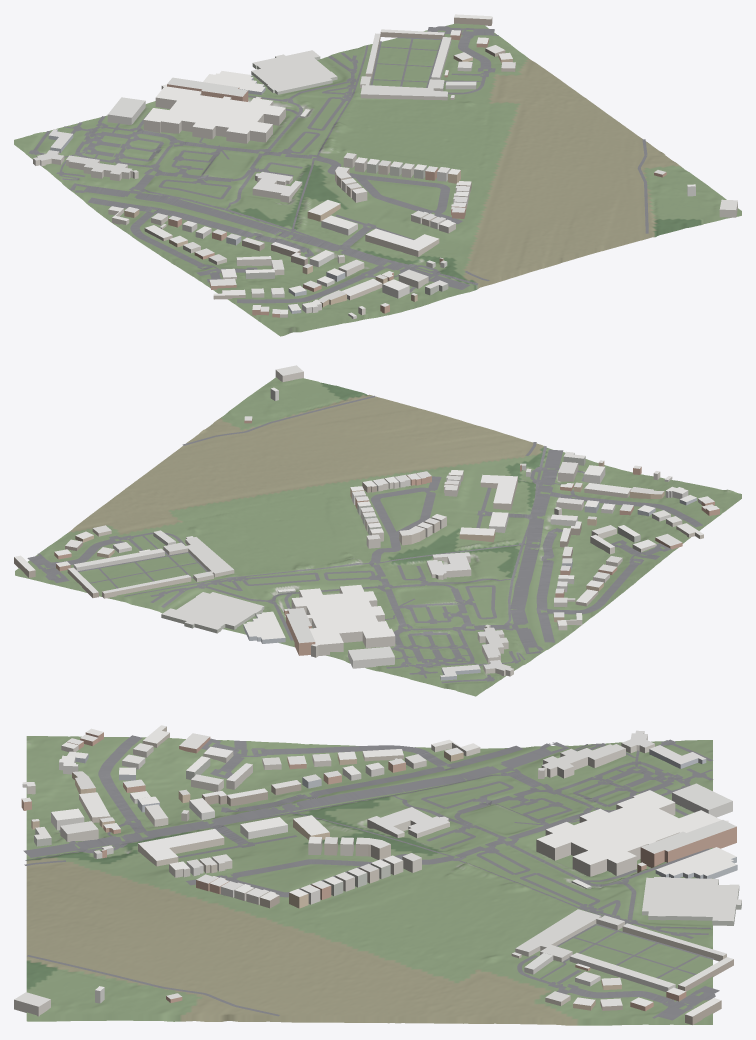
3 renders of one model, top to bottom at view 1: azimuth 30°, elevation 25°; view 2: azimuth 150°, elevation 25°; view 3: azimuth 270°, elevation 25°, orthographic. The views are drawn at different scales.
Parts seen in each view (by area): view 1: prim0, prim1, prim2; view 2: prim0, prim1, prim2; view 3: prim0, prim1, prim2.
Part boxes in pixels (x1,y1,x2,y2): prim0: (14, 23, 741, 336); prim1: (33, 14, 737, 319); prim2: (28, 26, 648, 303); prim0: (15, 377, 741, 696); prim1: (14, 365, 719, 680); prim2: (27, 395, 702, 683); prim0: (26, 736, 712, 1025); prim1: (14, 725, 741, 1024); prim2: (23, 735, 719, 1020).
Size of the model in its own units: 538 by 34.88 by 543.
